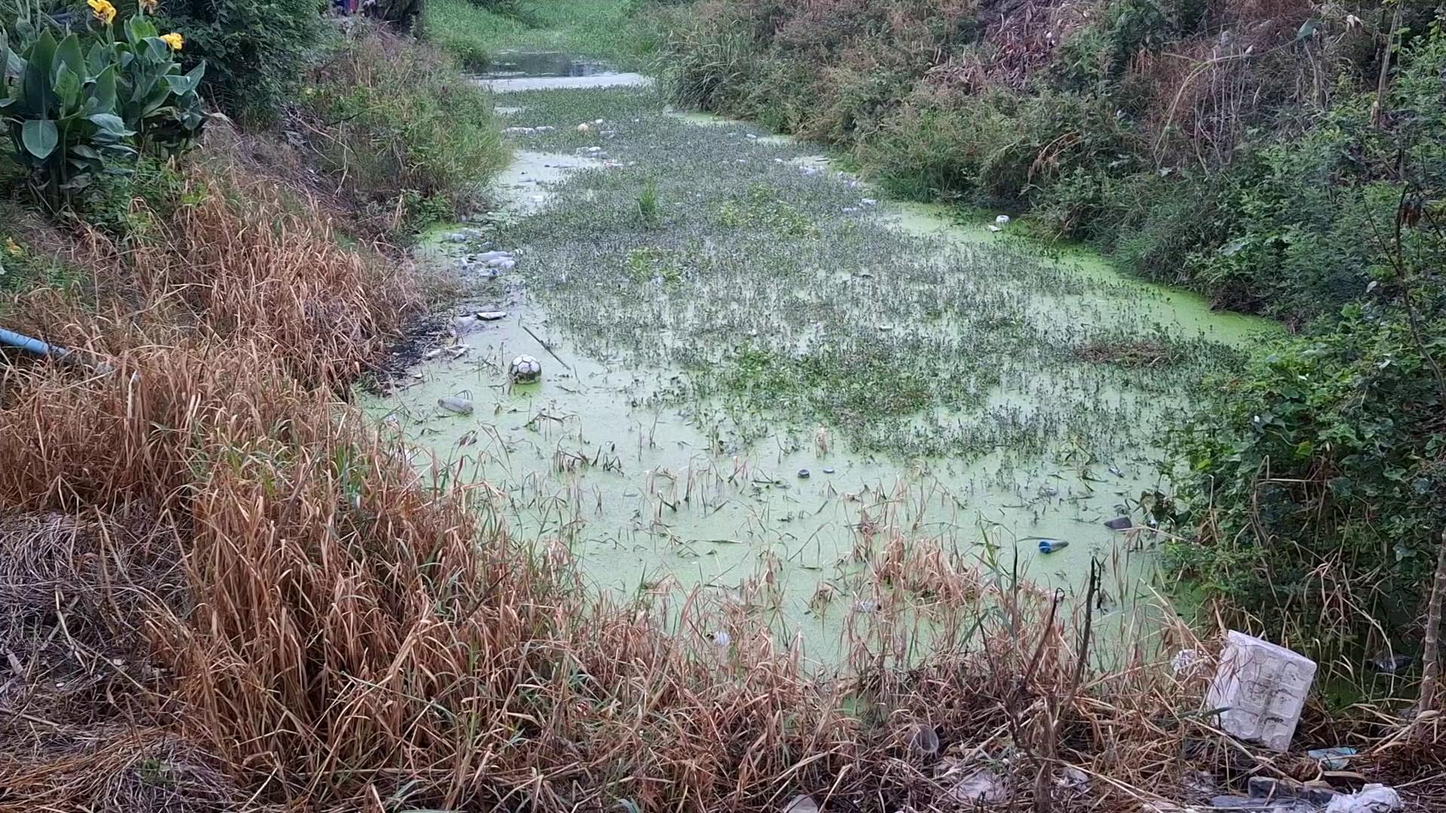ignore: (749, 266, 1232, 458), (589, 210, 919, 399), (514, 79, 769, 254)
trash: (841, 590, 895, 626), (461, 247, 523, 278), (1022, 533, 1079, 560), (503, 351, 551, 382), (433, 389, 478, 422), (976, 207, 1018, 239), (1096, 511, 1139, 540), (469, 305, 514, 331), (444, 224, 490, 246), (788, 467, 845, 482)
